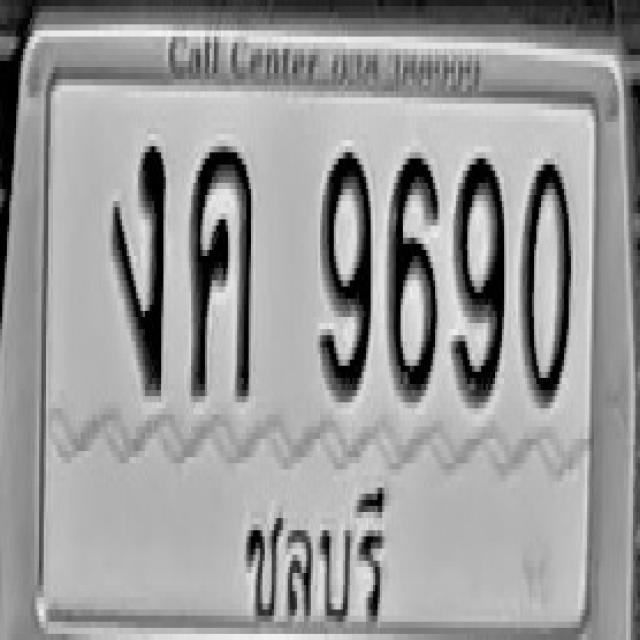0: (520, 156, 571, 406)
13KhorKhwai: (189, 143, 251, 399)
16NgorNgu: (110, 137, 166, 393)
6: (387, 152, 437, 402)
9: (451, 152, 504, 402), (320, 150, 371, 400)
Chonburi: (235, 466, 395, 640)
